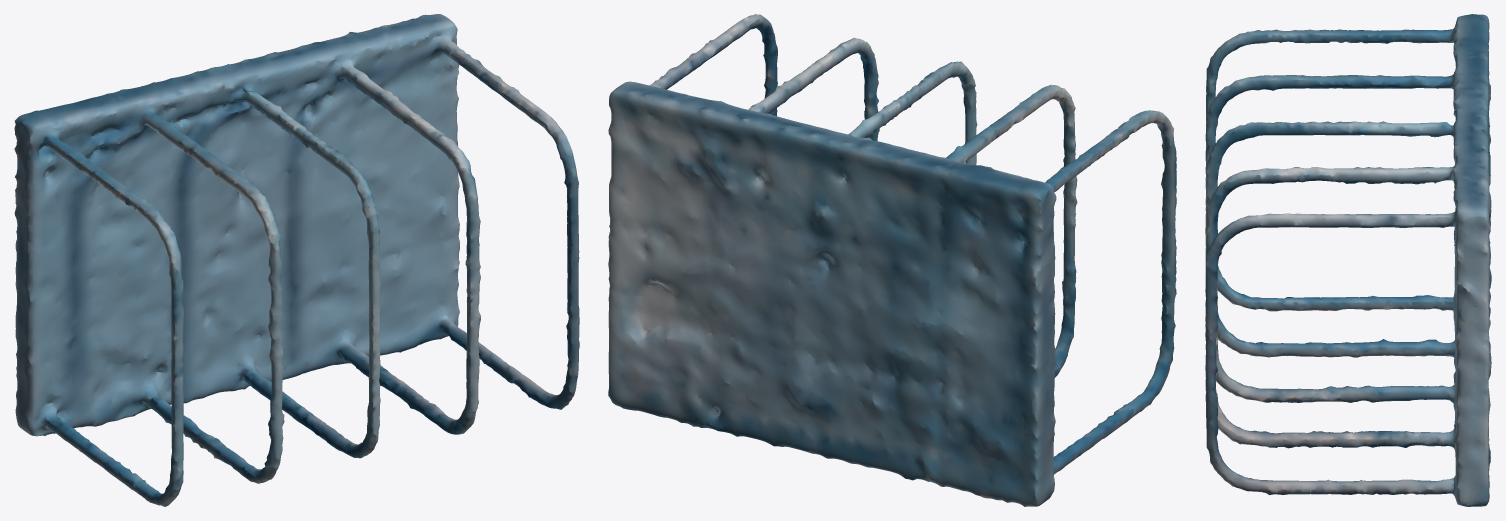
Rendered from sorter.glb.
3 renders of one model, left to right at view 1: azimuth 30°, elevation 25°; view 2: azimuth 150°, elevation 25°; view 3: azimuth 270°, elevation 25°, orthographic. The views are drawn at different scales.
Bounding box in the file's own units: 0.9966 × 0.7039 × 0.5993.
